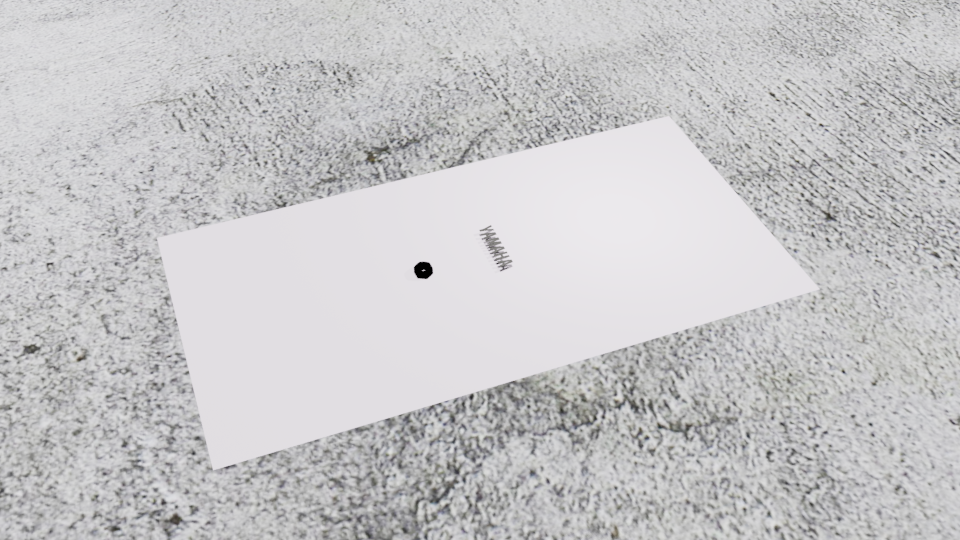yamaha_letters: (478, 224, 513, 267)
